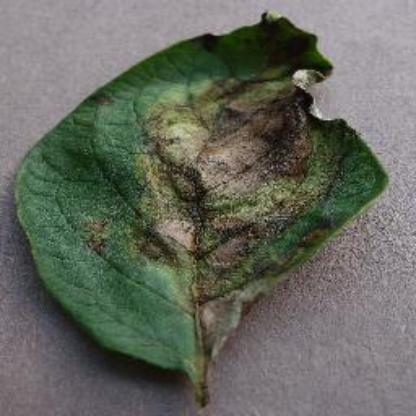Late-Blight: (11, 9, 393, 410)
